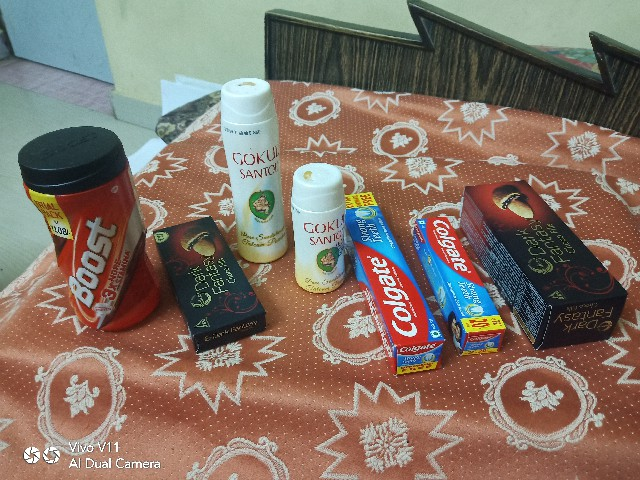boost small: (18, 114, 154, 331)
colgatetoothpaste big: (343, 182, 439, 389)
colgatetoothpaste small: (418, 205, 505, 359)
darkfantasy big: (461, 158, 627, 351)
darkfantasy small: (153, 212, 260, 357)
gokulsantol big: (218, 71, 288, 262)
gokulsantol small: (287, 161, 345, 297)
